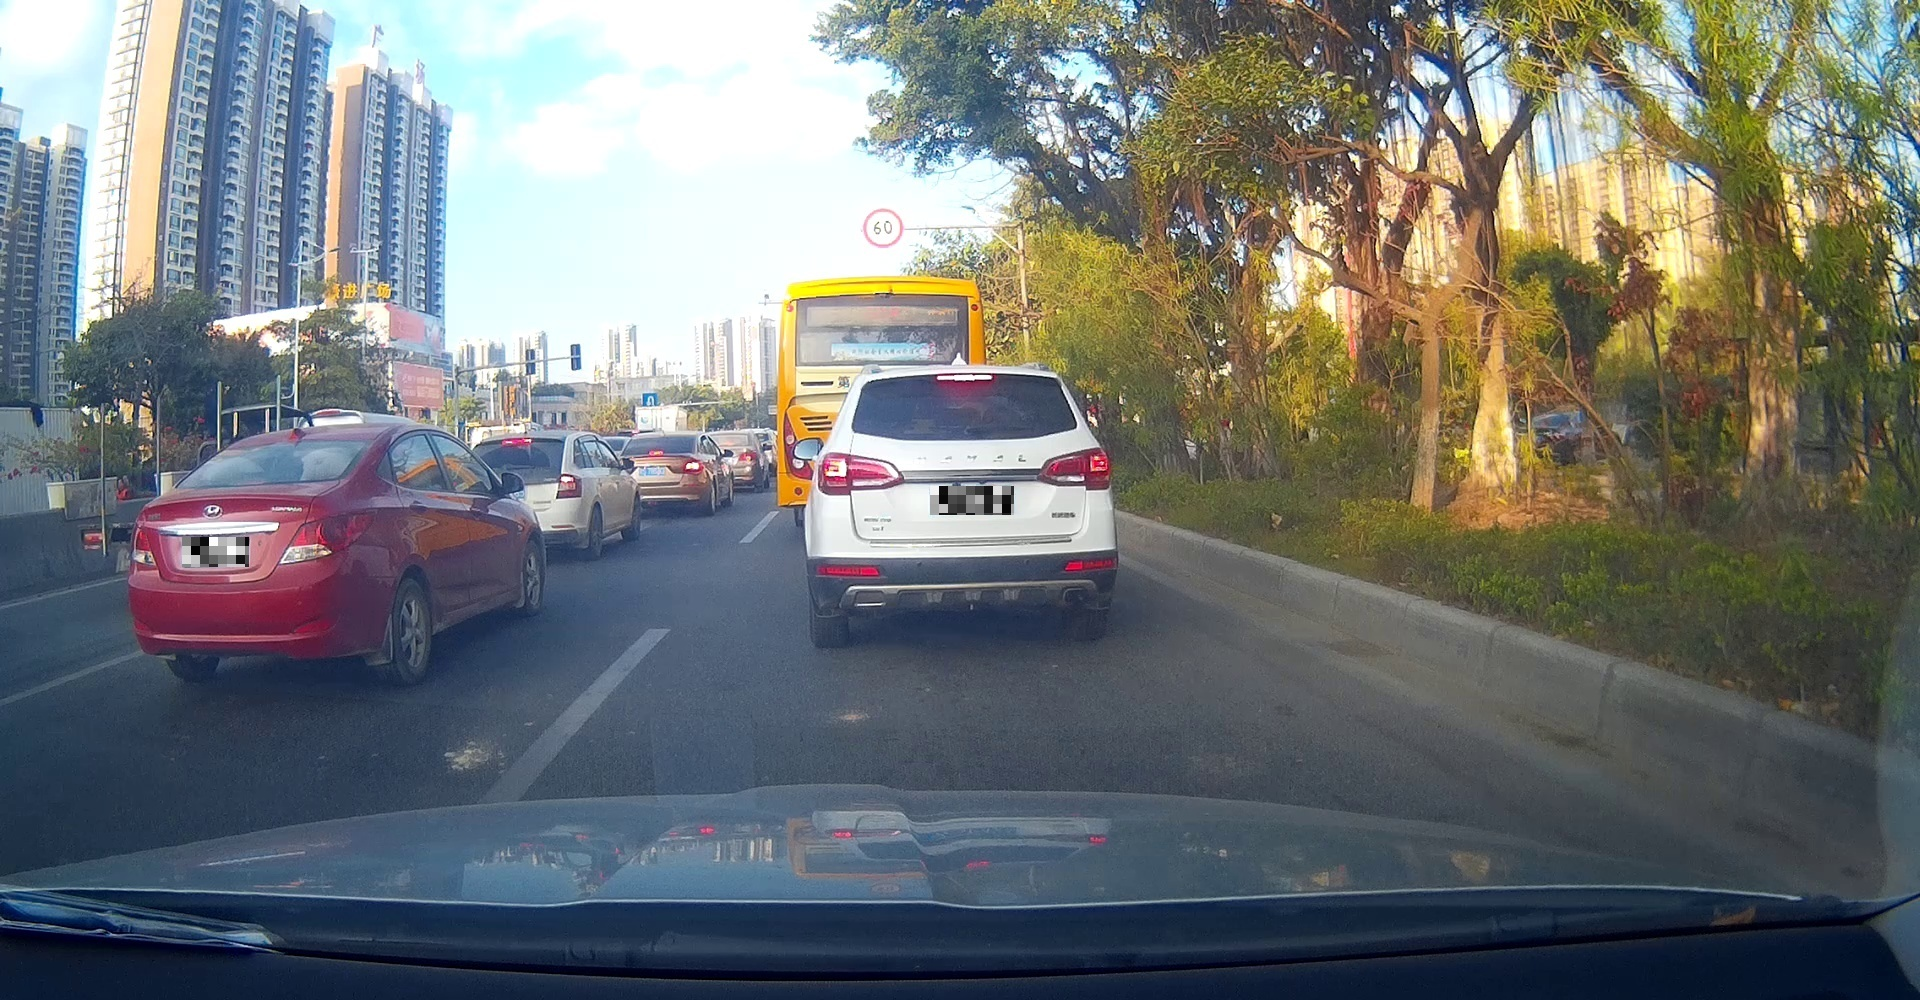L_light: (817, 452, 905, 496), (130, 522, 157, 566)
R_light: (276, 510, 376, 566), (1036, 447, 1111, 490)
T_light: (936, 374, 992, 381), (230, 478, 265, 486)
day-brake: (804, 362, 1119, 648)
day-no: (126, 423, 377, 687)
plate_1: (182, 537, 249, 567)
plate_2: (930, 486, 1015, 515)
